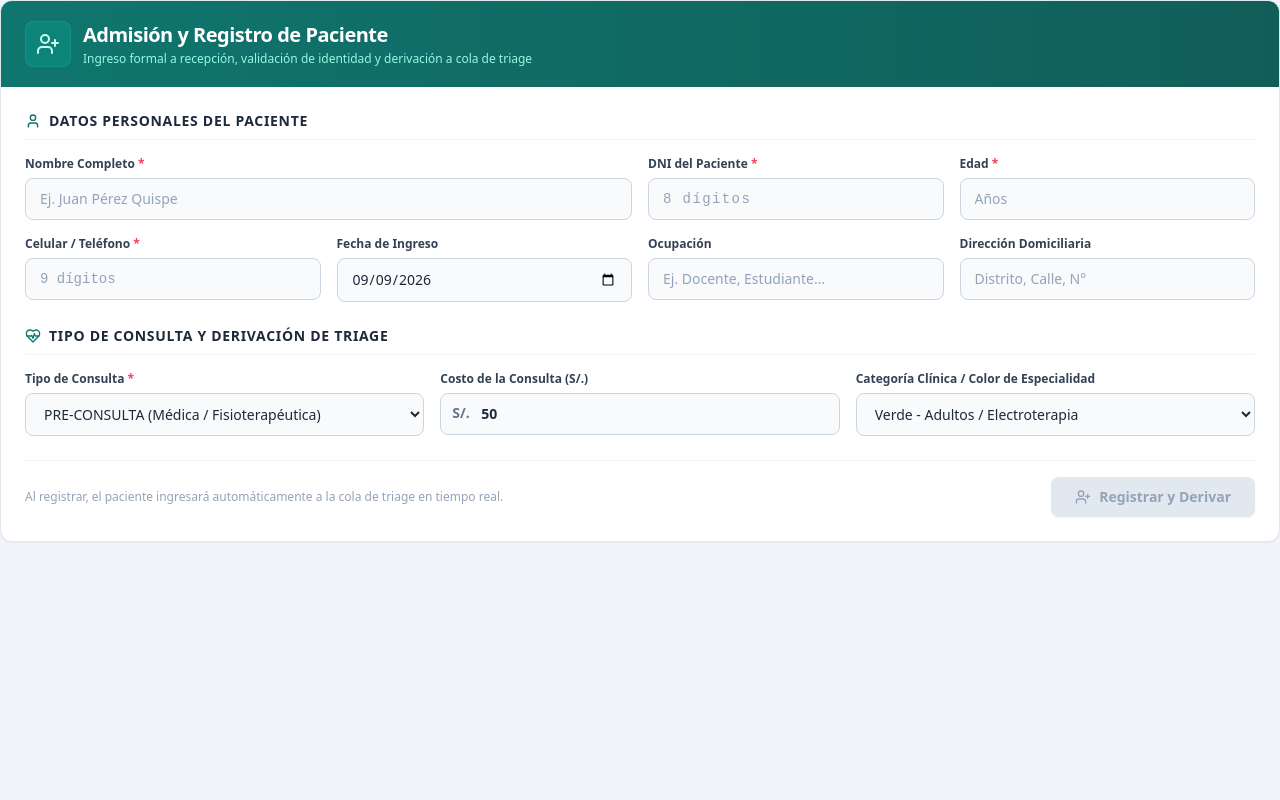
Test case: FormularioAdmision Component (Regla de Minoridad y Admisión) › debe deshabilitar el botón de envío si el paciente es menor de edad y el DNI de apoderado está vacío o incompleto
Llenar datos básicos del menor
Type "Lucas Ramos" into the field labelled "Nombre Completo *".
click(328, 199); type("Lucas Ramos")  # box [25,178,632,220]
Type "78945612" into the field labelled "DNI del Paciente *".
click(796, 199); type("78945612")  # box [648,178,944,220]
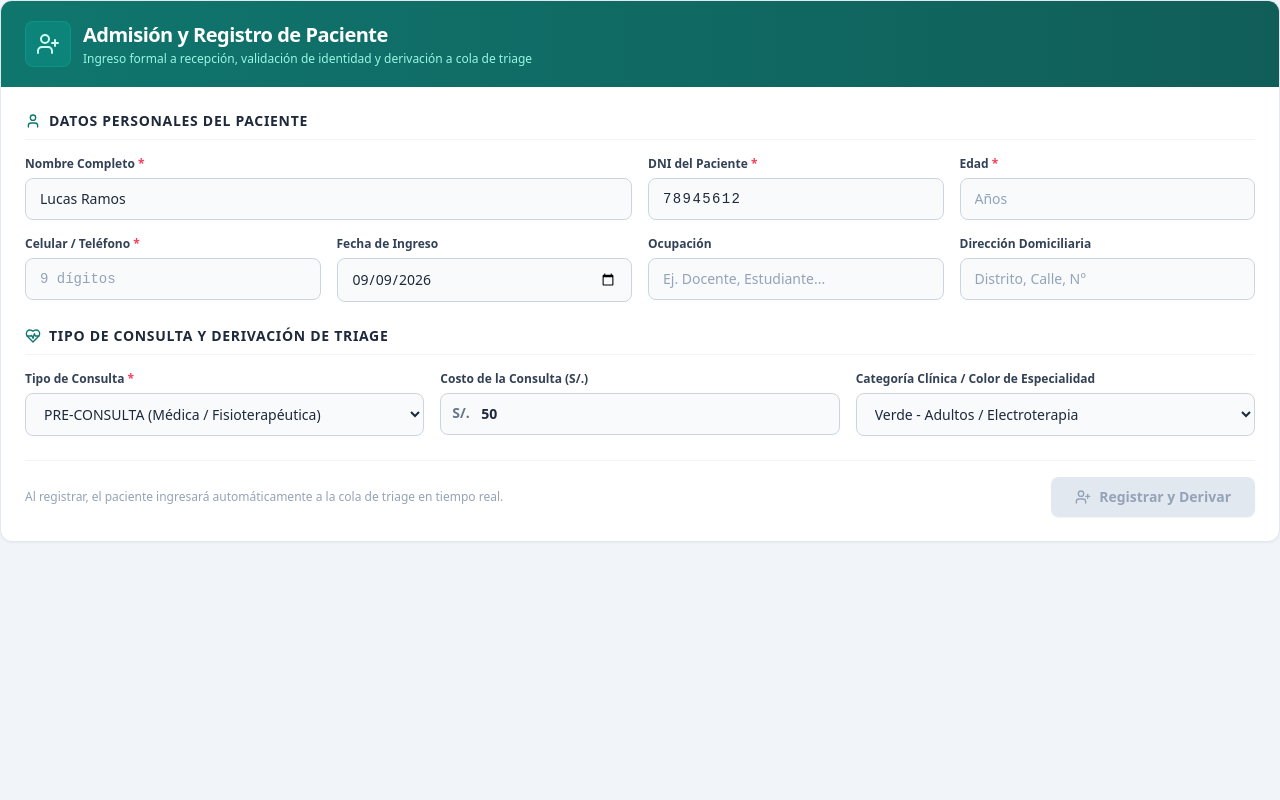
Type "987654321" into the field labelled "Celular / Teléfono *".
click(173, 279); type("987654321")  # box [25,258,320,300]
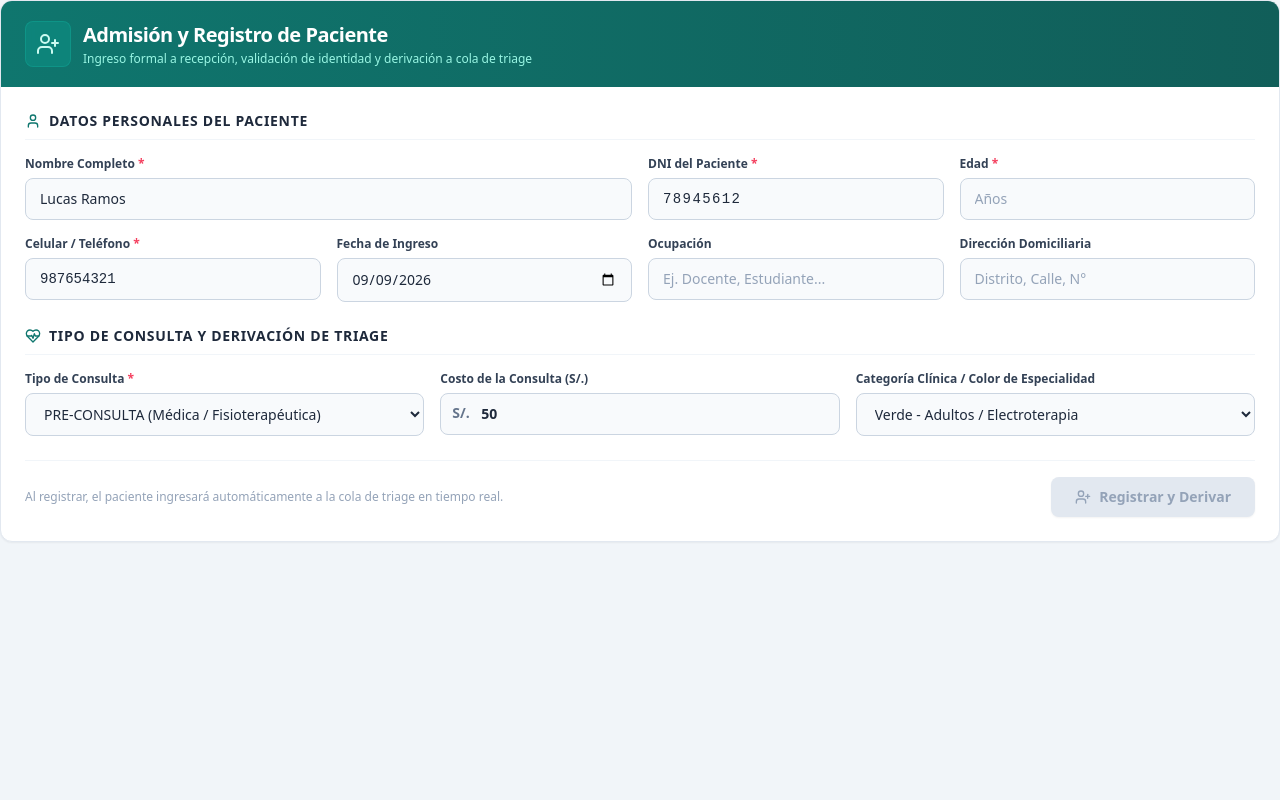
Type "14" into the number field labelled "Edad *".
click(1107, 199); type("14")  # box [960,178,1255,220]
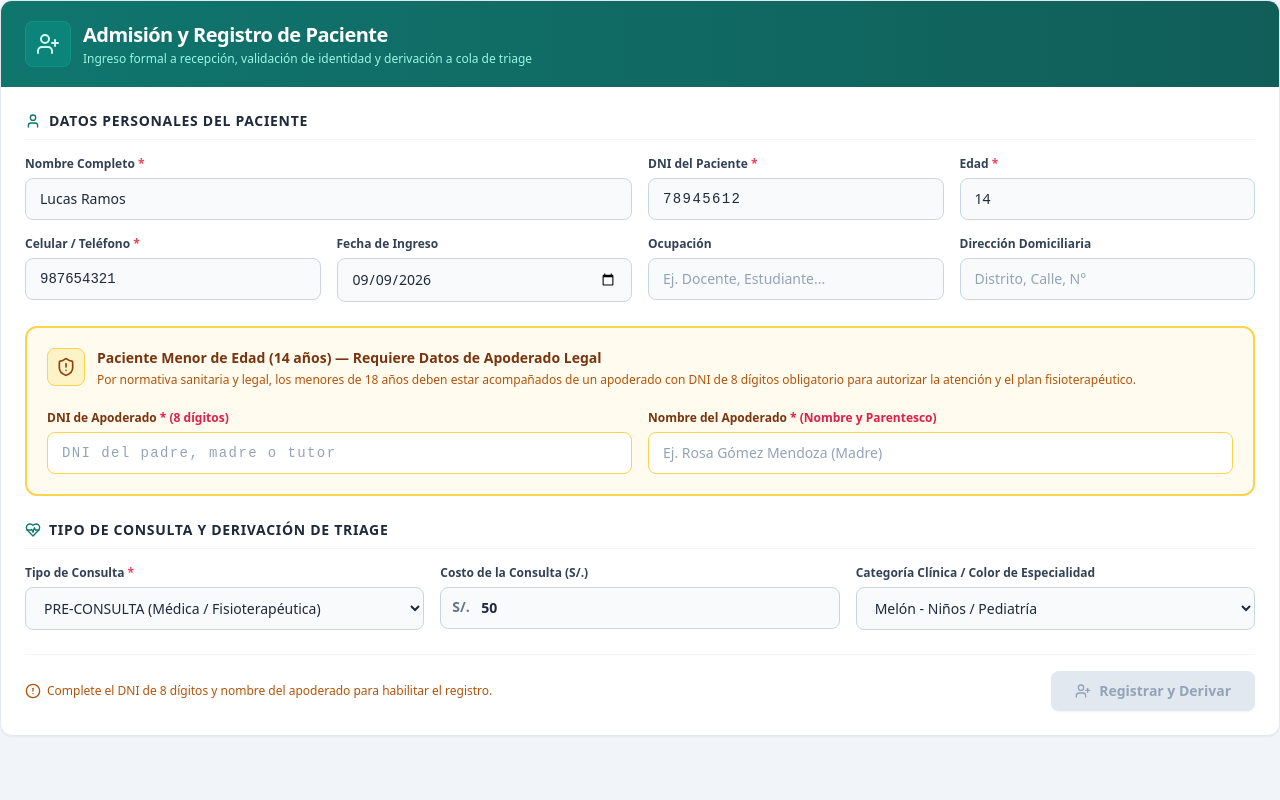
Expected: the button "Registrar y Derivar" is disabled, [1051,670,1255,710]
Type "1234" into the field labelled "DNI de Apoderado * (8 dígitos)".
click(340, 452); type("1234")  # box [47,432,632,474]
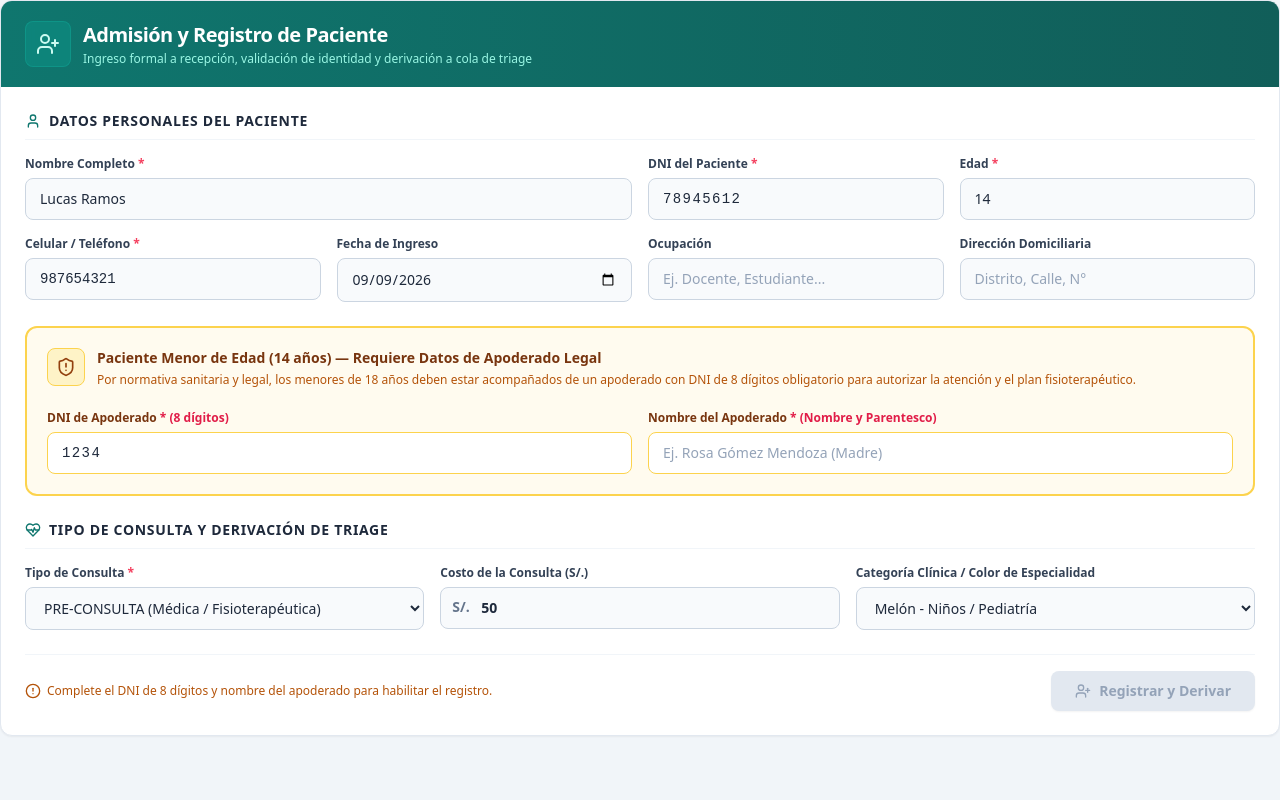
Expected: the button "Registrar y Derivar" is disabled, [1051,670,1255,710]
Ingresar DNI de apoderado completo (8 dígitos) pero sin nombre de apoderado
Replace the text in the field labelled "DNI de Apoderado * (8 dígitos)" with "45678912" at [340, 452], box [47,432,632,474]
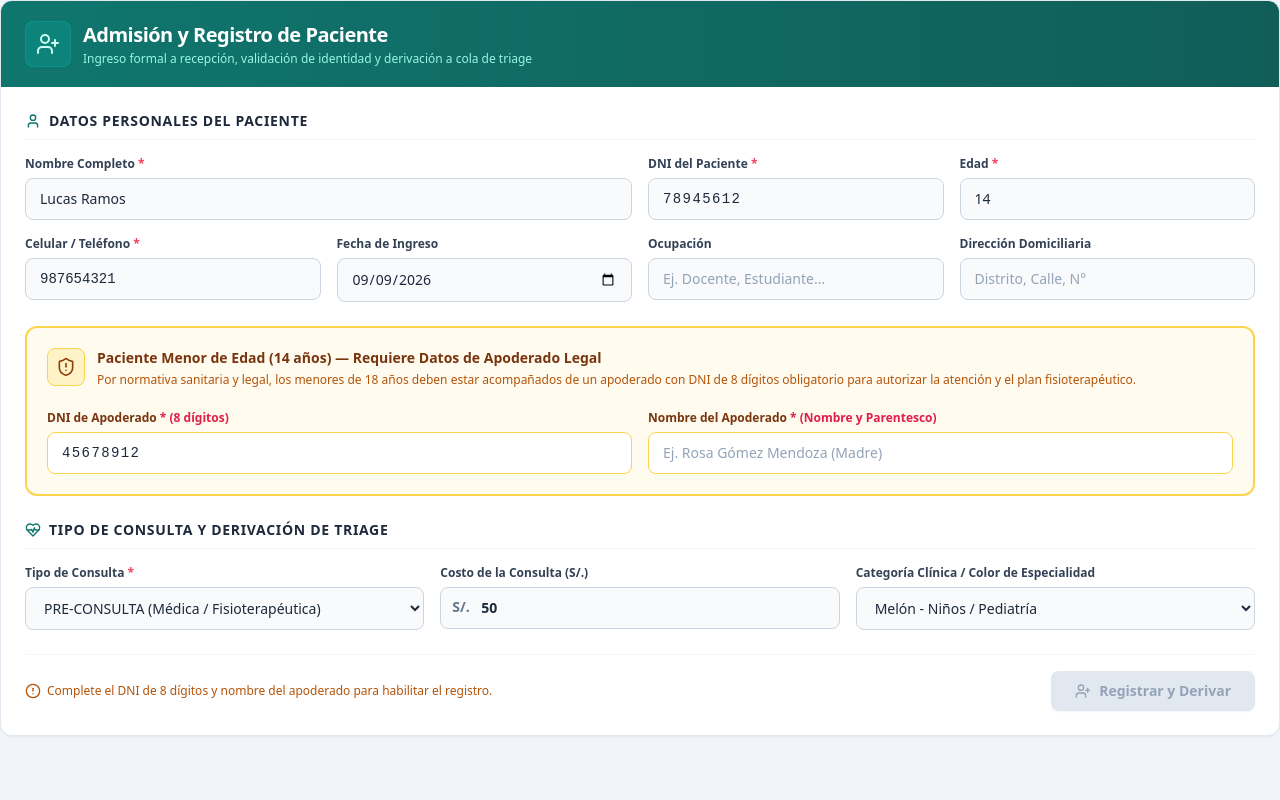
Expected: the button "Registrar y Derivar" is disabled, [1051,670,1255,710]
Ingresar nombre de apoderado válido
Type "Elena Ramos (Madre)" into the field labelled "Nombre del Apoderado * (Nombre y Parentesco)".
click(940, 452); type("Elena Ramos (Madre)")  # box [648,432,1233,474]
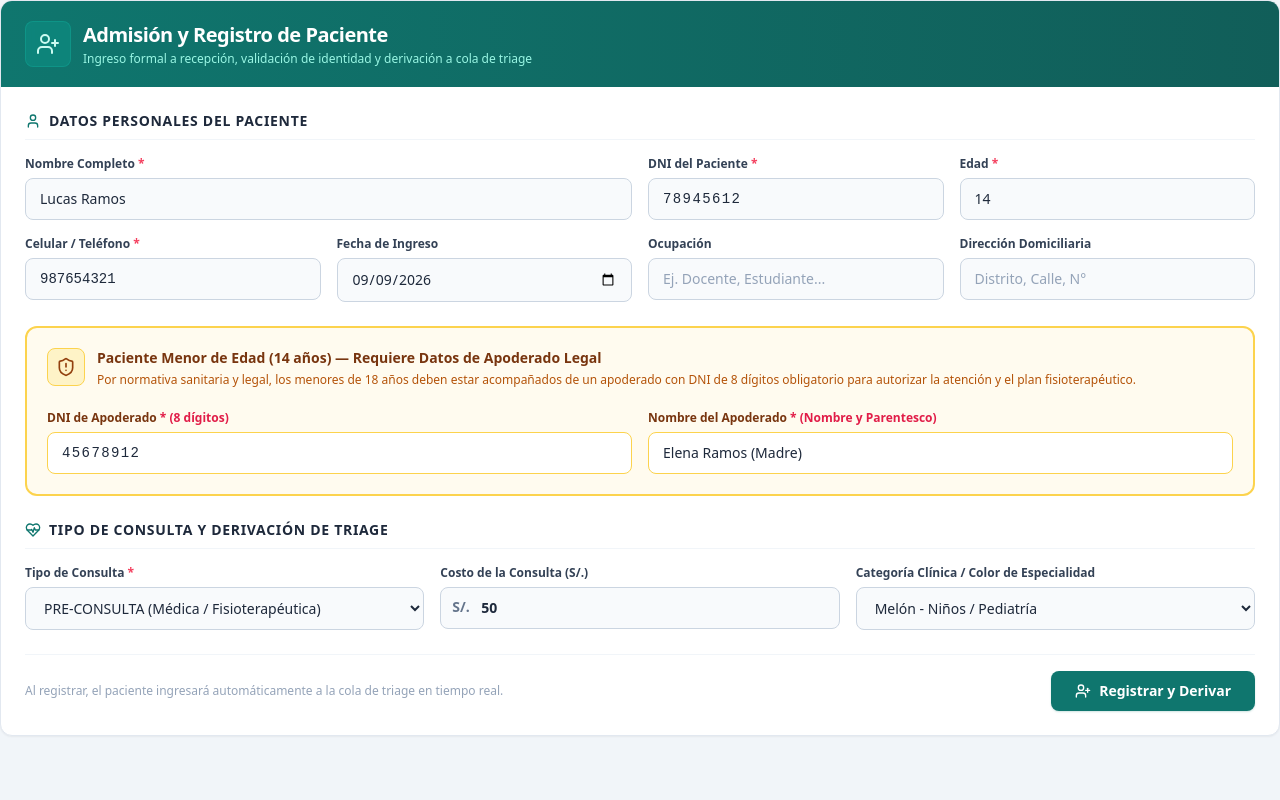
Result: the button "Registrar y Derivar" is enabled at [1051,670,1255,710]
